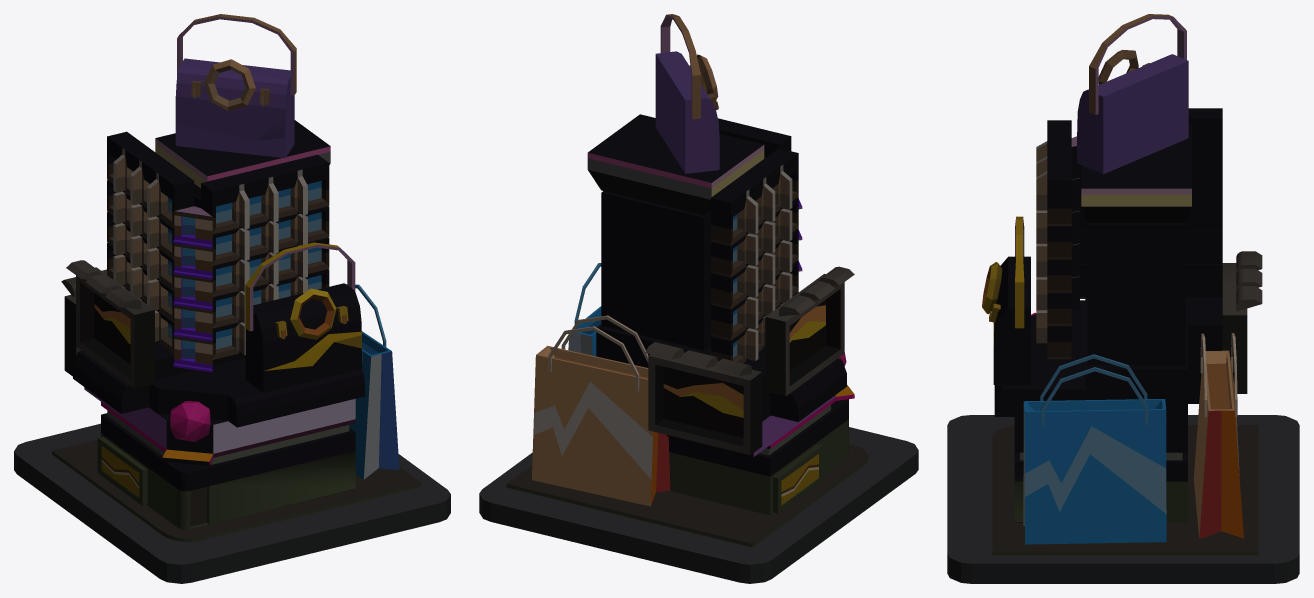
3 renders of one model, left to right at view 1: azimuth 30°, elevation 25°; view 2: azimuth 150°, elevation 25°; view 3: azimuth 270°, elevation 25°, orthographic. The views are drawn at different scales.
Parts seen in each view (by area): view 1: Plane.012; view 2: Plane.012; view 3: Plane.012.
Part boxes in pixels (left/top/right/bottom): Plane.012: left=14, top=14, right=450, bottom=583; Plane.012: left=479, top=14, right=918, bottom=583; Plane.012: left=947, top=14, right=1299, bottom=583.
Bounding box in the file's own units: 3 × 4.65 × 3.
1 material, 1 textured.
